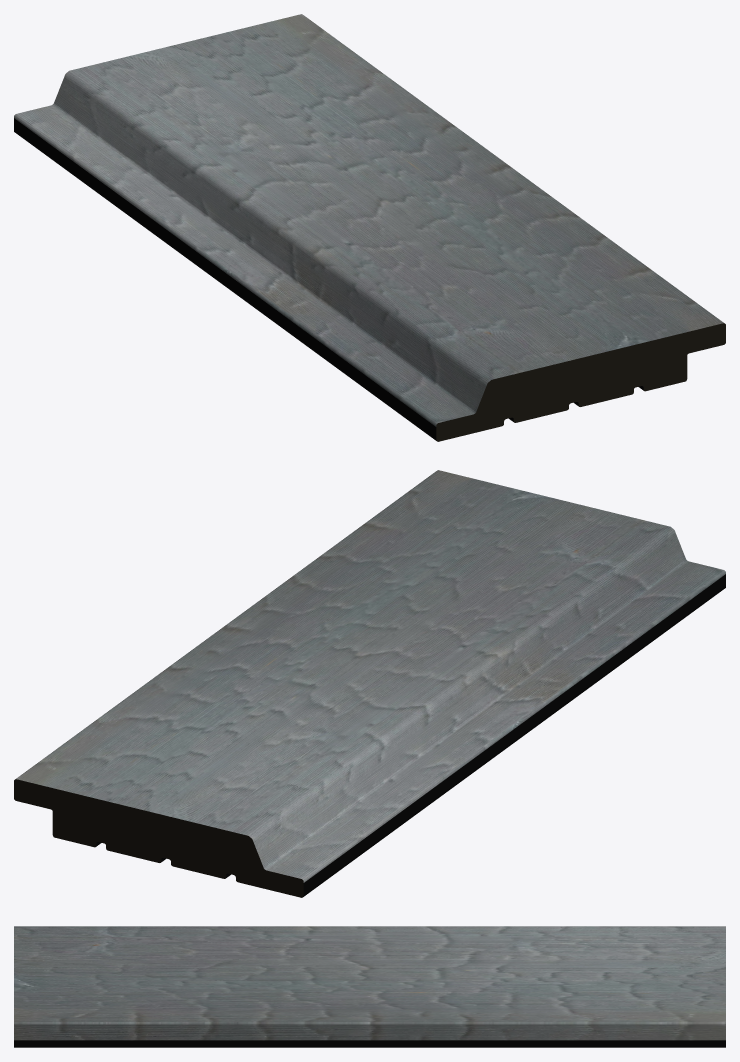
Rendered from thermo-facade-half-tongue-graphite.glb.
3 renders of one model, top to bottom at view 1: azimuth 30°, elevation 25°; view 2: azimuth 150°, elevation 25°; view 3: azimuth 270°, elevation 25°, orthographic. The views are drawn at different scales.
Visible parts, largest first — view 1: Pusė_Špunto; view 2: Pusė_Špunto; view 3: Pusė_Špunto.
Part boxes in pixels (box(x1,y1,x2,y2)): Pusė_Špunto: box(14, 14, 725, 441); Pusė_Špunto: box(14, 470, 725, 897); Pusė_Špunto: box(14, 926, 725, 1047).
Bounding box in the file's own units: 0.0723 × 0.0117 × 0.1826.
3 materials, 1 textured.
